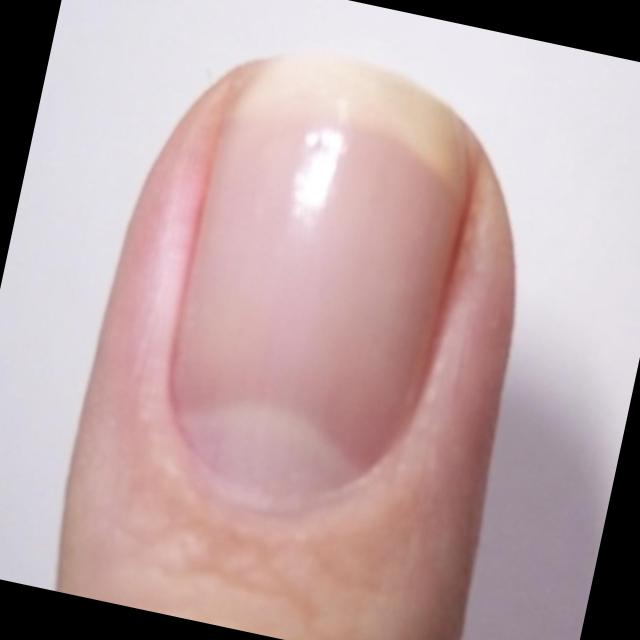Nail: (167, 54, 470, 511)
